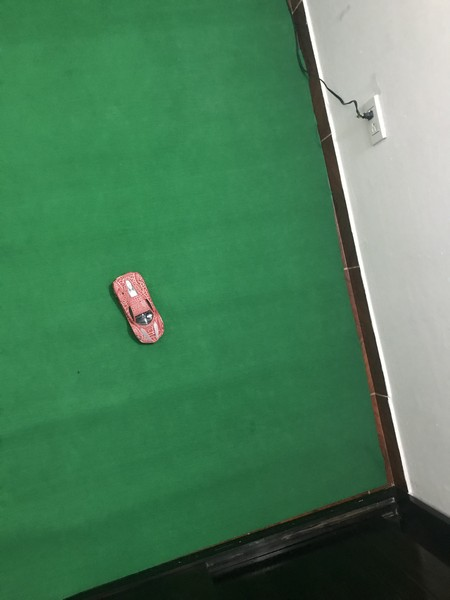RC: (108, 269, 166, 345)
